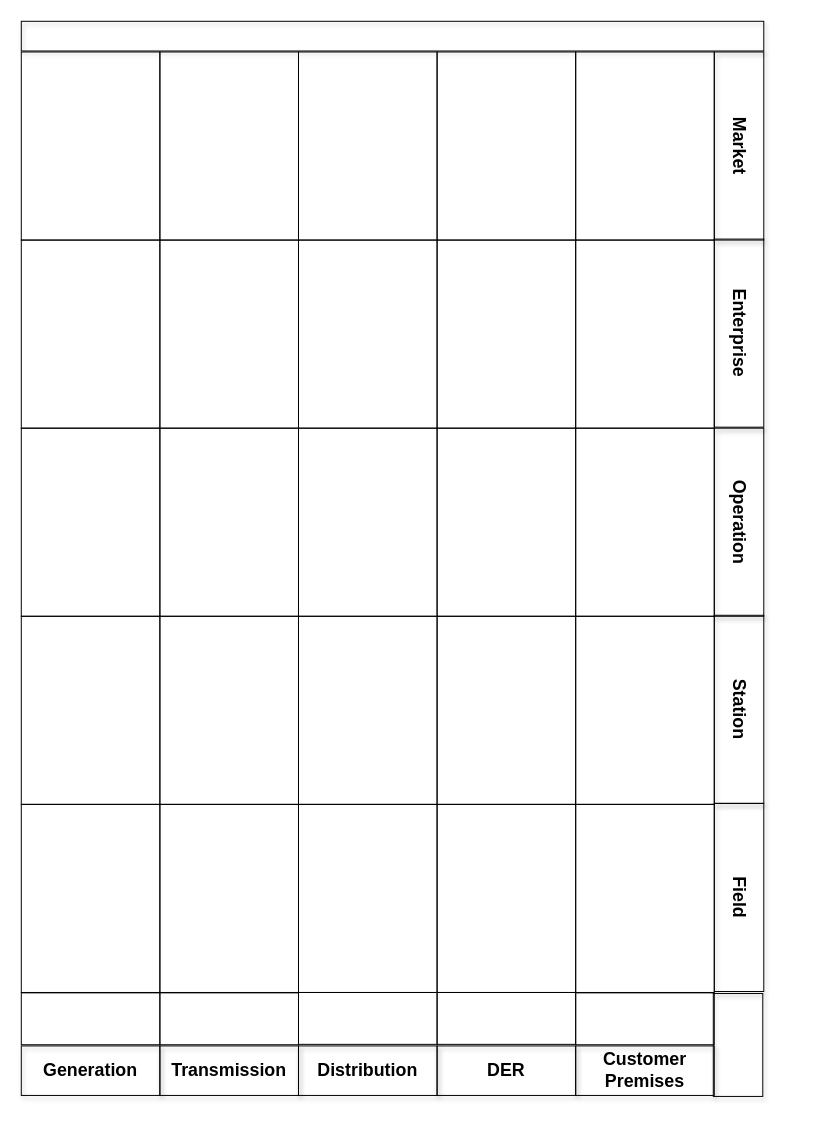
The diagram is 831 pixels wide and 1121 high, and some of its shapes have lost their labels. The centre of each missing label's shape, as x and y in pixels:
"Process" goes at pixel 738 1046.
"SGAM Function Layer" goes at pixel 393 37.
